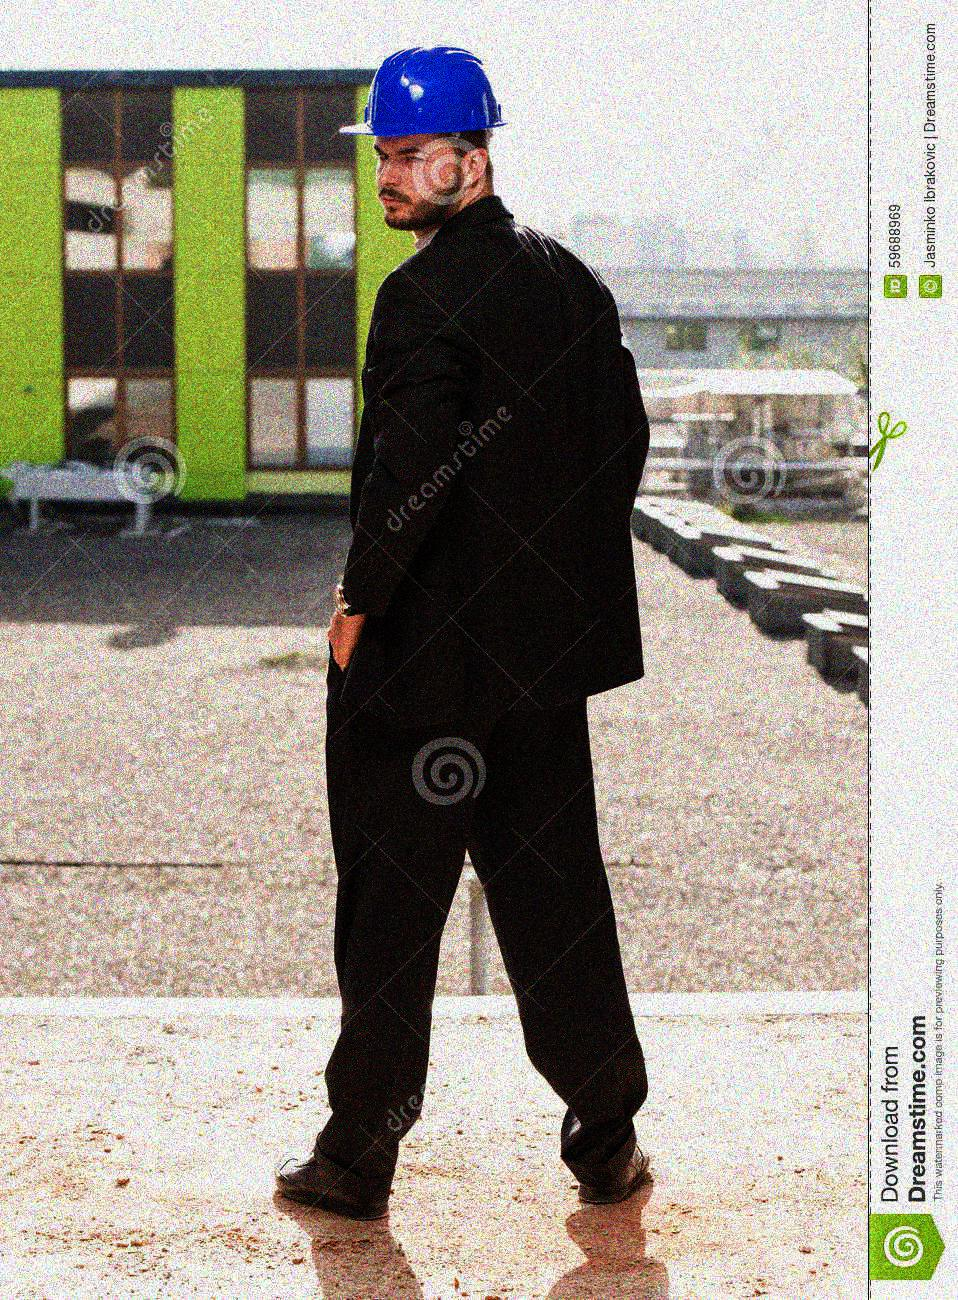helmet: (339, 43, 505, 225)
